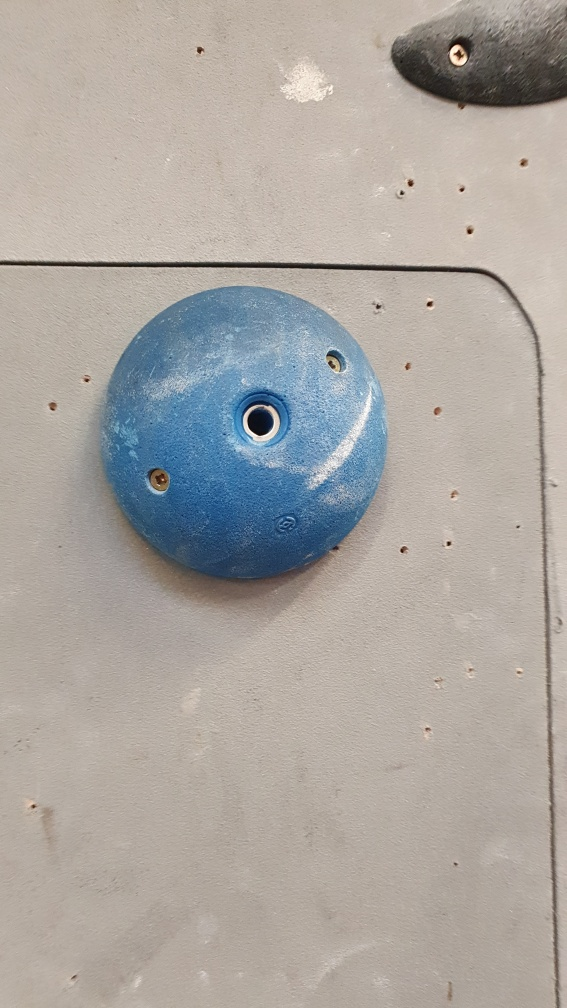Sloper: (97, 281, 393, 582)
